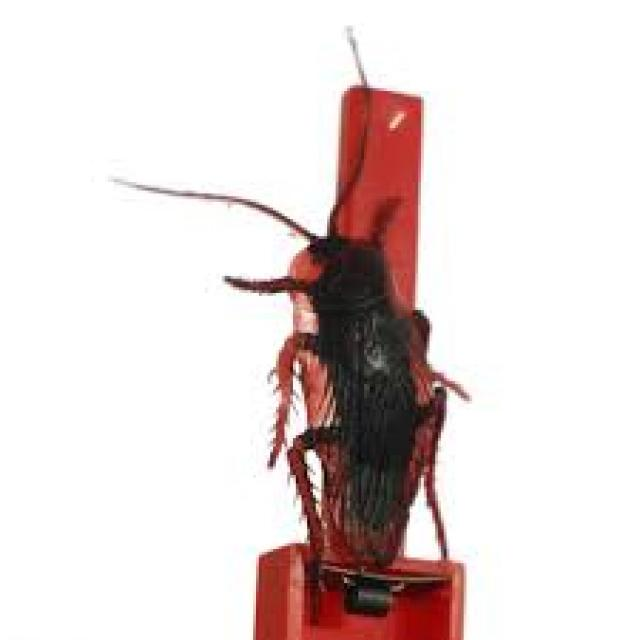Cockroach: (98, 20, 532, 640)
